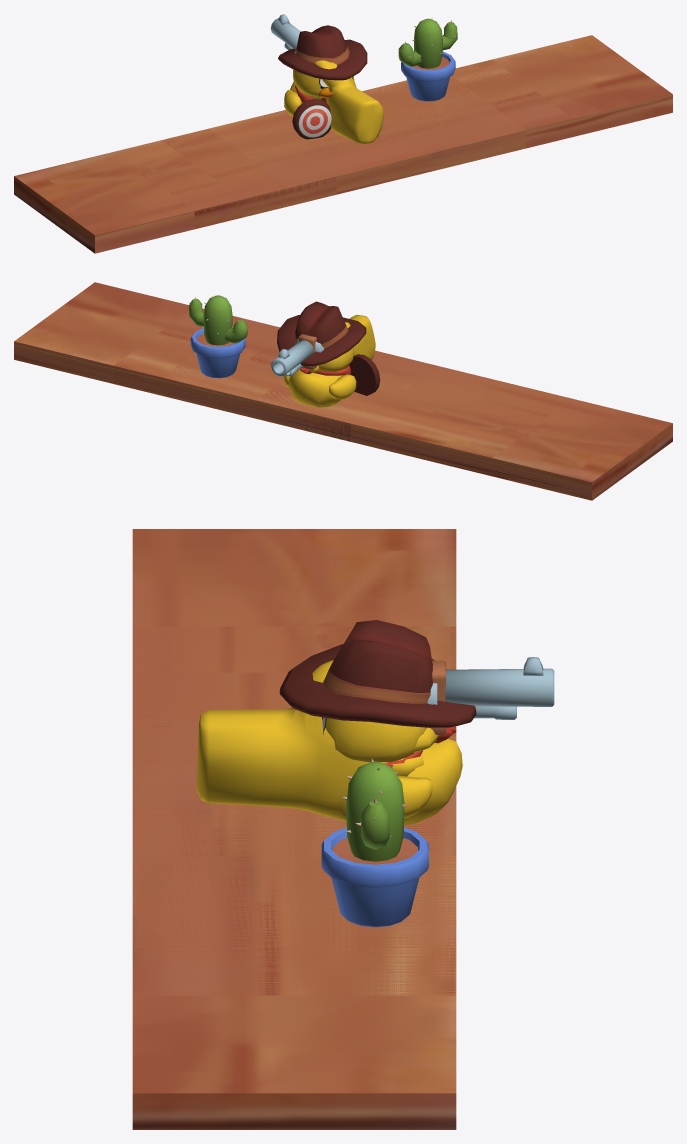
Rendered from modely.glb.
3 views of the same model, one above another, from view 1: azimuth 30°, elevation 25°; view 2: azimuth 150°, elevation 25°; view 3: azimuth 270°, elevation 25° (orthographic). The views are drawn at different scales.
Visible parts, largest first — view 1: shelf_5, shelf_3, shelf_4, shelf_2, prop_cactus_pot, hat, hand, shelf_1, target, duck, gun; view 2: shelf_5, shelf_4, prop_cactus_pot, hat, duck, shelf_1, shelf_2, shelf_3, gun, target, hand, wing_R_anchor; view 3: shelf_5, shelf_4, hand, hat, shelf_1, prop_cactus_pot, shelf_3, duck, gun, shelf_2, wing_L_anchor.
Boxes of the visible parts, x1,y1,x2,y2 form: shelf_5: [14, 35, 672, 253]; shelf_3: [161, 76, 525, 217]; shelf_4: [116, 59, 572, 229]; shelf_2: [209, 83, 470, 205]; prop_cactus_pot: [398, 18, 457, 101]; hat: [278, 25, 367, 80]; hand: [315, 60, 383, 144]; shelf_1: [260, 111, 431, 194]; target: [292, 99, 331, 139]; duck: [290, 69, 354, 103]; gun: [270, 14, 326, 102]; shelf_5: [14, 282, 672, 500]; shelf_4: [114, 308, 568, 472]; prop_cactus_pot: [189, 295, 247, 378]; hat: [277, 301, 366, 366]; duck: [288, 347, 354, 407]; shelf_1: [256, 351, 430, 441]; shelf_2: [208, 339, 466, 448]; shelf_3: [165, 318, 455, 384]; gun: [271, 334, 324, 376]; target: [347, 354, 380, 395]; hand: [296, 315, 375, 372]; wing_R_anchor: [329, 374, 356, 399]; shelf_5: [132, 529, 456, 1129]; shelf_4: [132, 626, 456, 995]; hand: [197, 660, 438, 821]; hat: [279, 620, 476, 727]; shelf_1: [132, 765, 456, 857]; prop_cactus_pot: [321, 758, 428, 927]; shelf_3: [132, 672, 456, 949]; duck: [325, 718, 462, 825]; gun: [427, 657, 554, 734]; shelf_2: [132, 719, 456, 901]; wing_L_anchor: [398, 775, 432, 818].
Size of the model in its own units: 1.65 by 0.2962 by 0.5211.
1 material, 1 textured.
